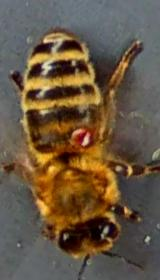varroa_mite: (64, 122, 94, 150)
